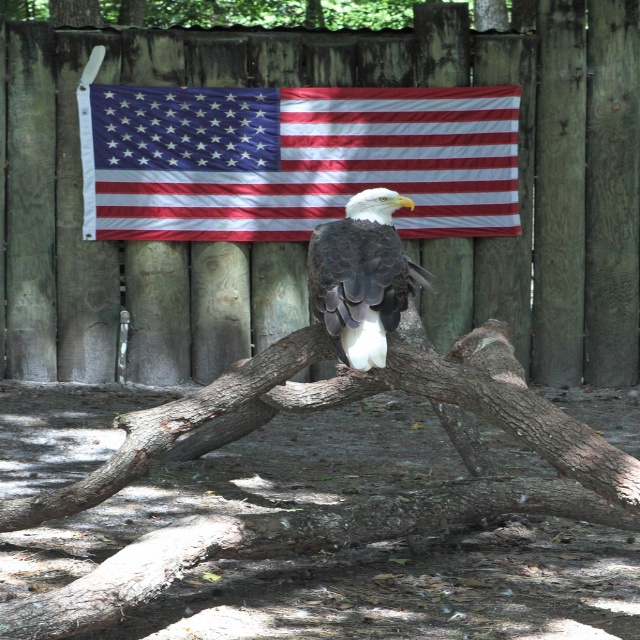Eagle: (298, 187, 429, 384)
